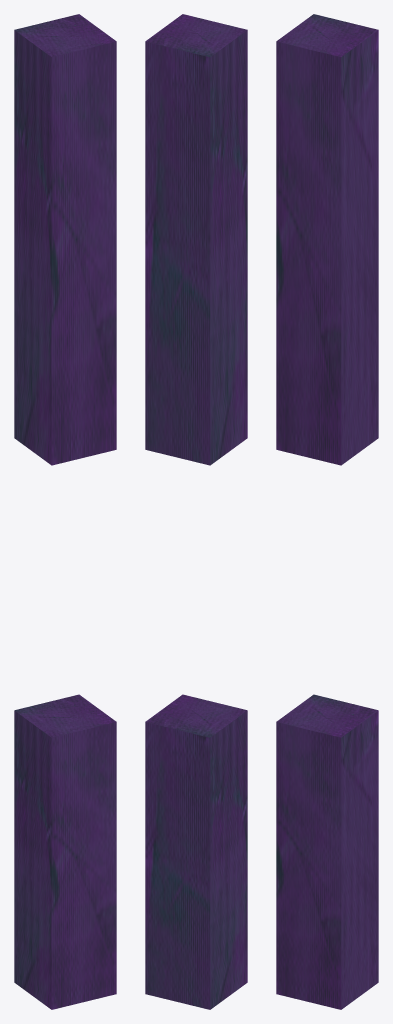
Rendered from obs7.glb.
The picture shows the model from 3 angles, left to right: view 1: azimuth 30°, elevation 25°; view 2: azimuth 150°, elevation 25°; view 3: azimuth 330°, elevation 25°; orthographic projection.
Parts seen in each view (by area): view 1: obs71; view 2: obs71; view 3: obs71.
Part boxes in pixels (x1,y1,x2,y2): obs71: (14,14,116,1009); obs71: (145,14,247,1009); obs71: (276,14,378,1009).
Size of the model in its own units: 1 by 14 by 1.
1 material, 1 textured.
